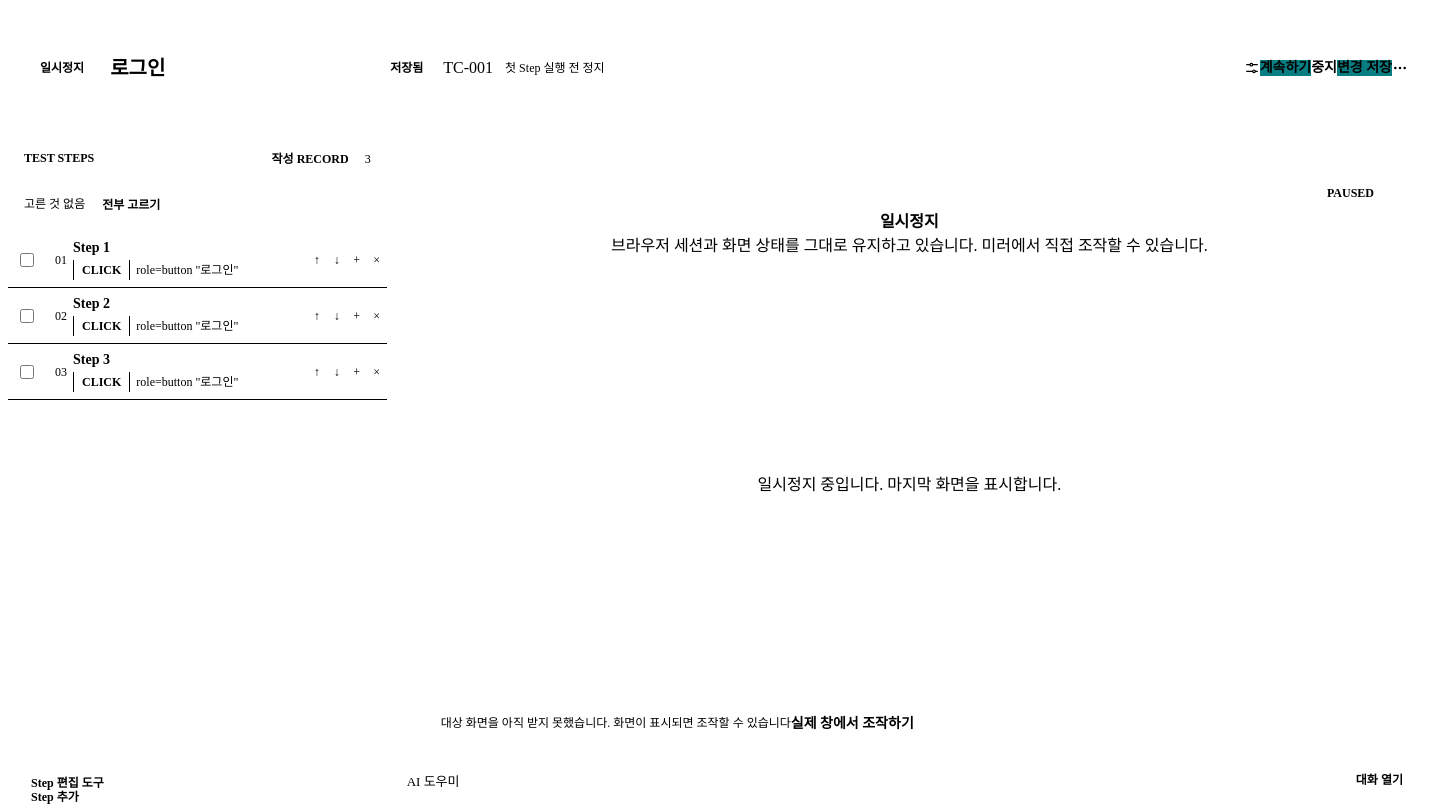
Test: FR-386 — 되돌릴 수 없는 삭제는 그 사실을 말한다 › 세션의 확인에는 되돌릴 수 없다는 사실이 붙는다
What coordinates should you click on to do the following:
click the checkbox named "Step 1 지울 대상으로 고르기"
I would click on:
 (27, 260)
Its box is top-left (20, 252), bottom-right (34, 266).
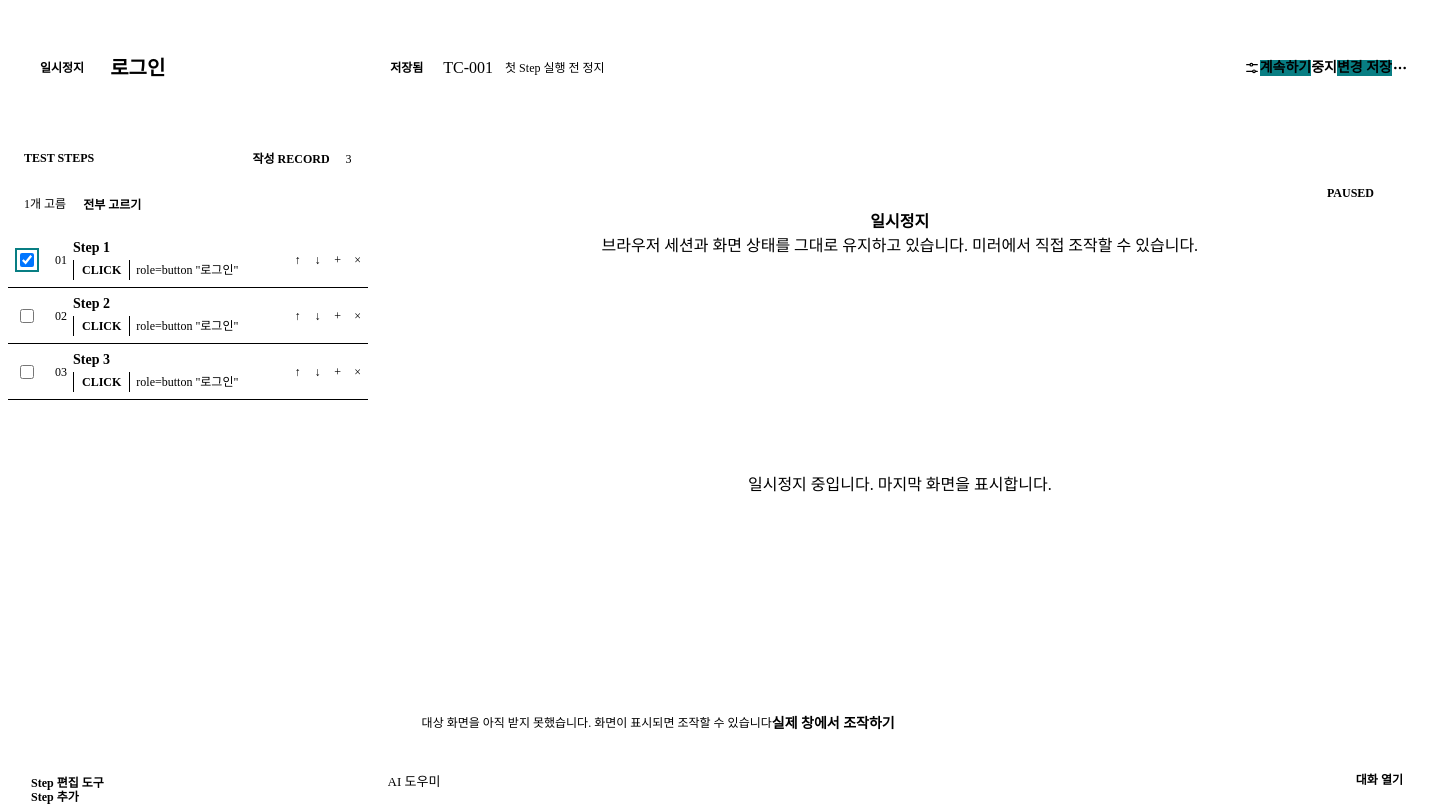
What coordinates should you click on to do the following:
click the button "Step 편집 도구"
I would click on:
 (67, 783)
Its box is top-left (22, 776), bottom-right (113, 790).
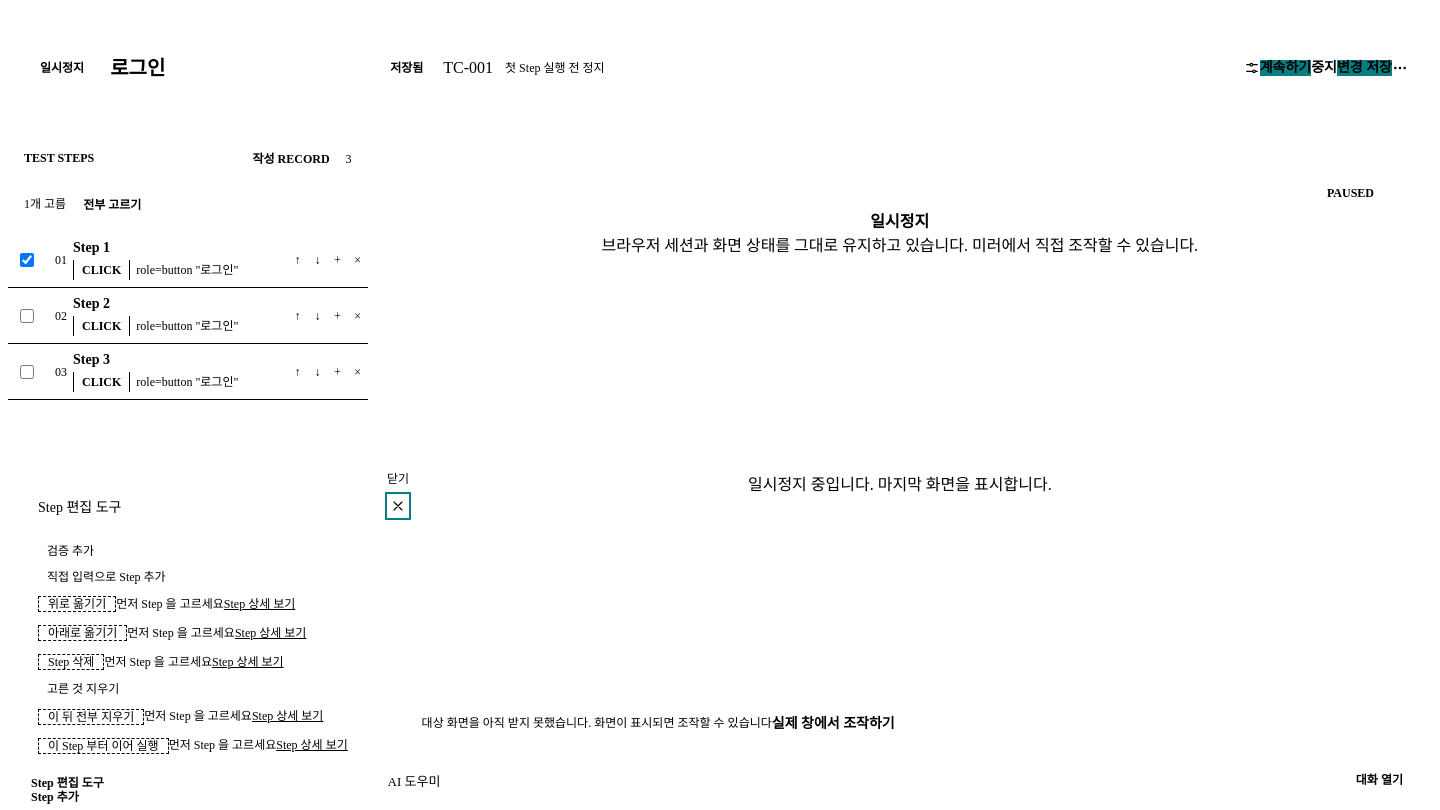
What coordinates should you click on to do the following:
click the button "고른 것 지우기"
I would click on:
 (83, 689)
Its box is top-left (38, 682), bottom-right (128, 696).
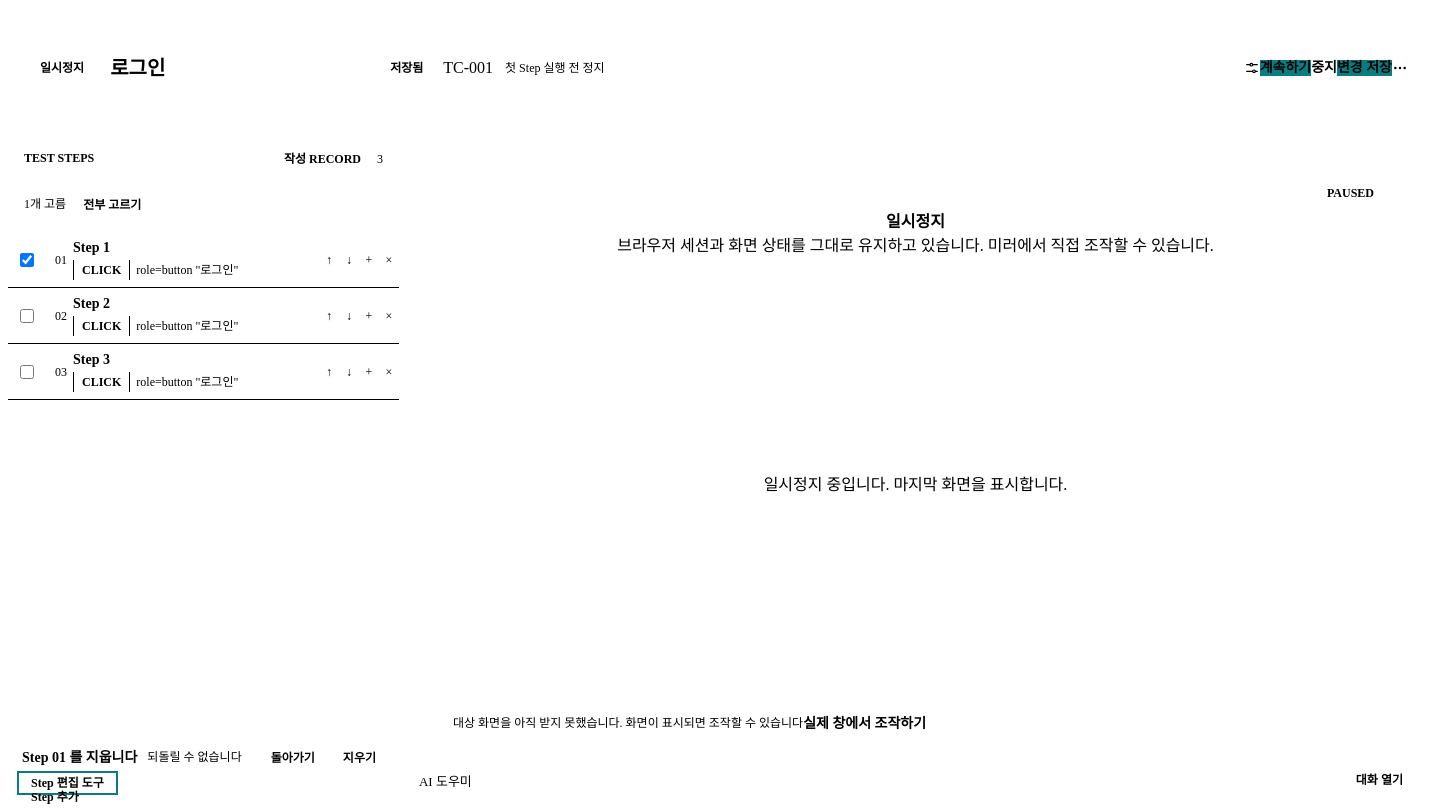
expect the message "Step 01 를 지웁니다 되돌릴 수 없습니다 돌아가기 지우기" is shown: met, box top-left (22, 749), bottom-right (385, 766)
expect the text "되돌릴 수 없습니다" is shown: met, box top-left (147, 749), bottom-right (242, 766)
